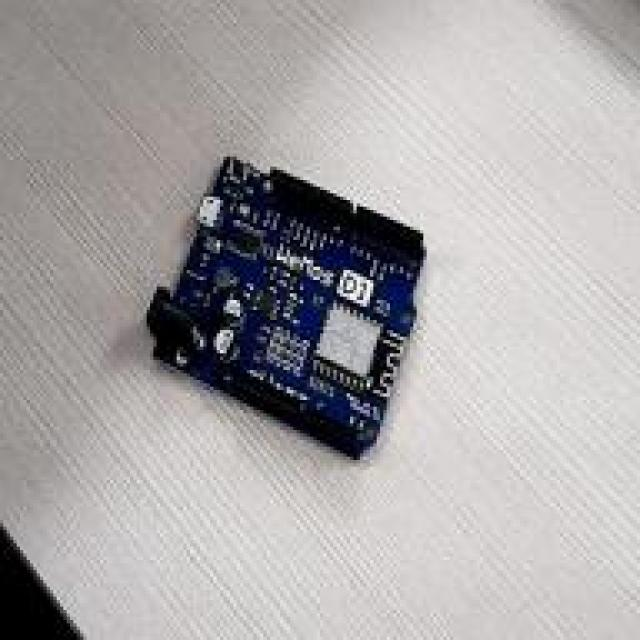Wemos: (151, 158, 424, 458)
